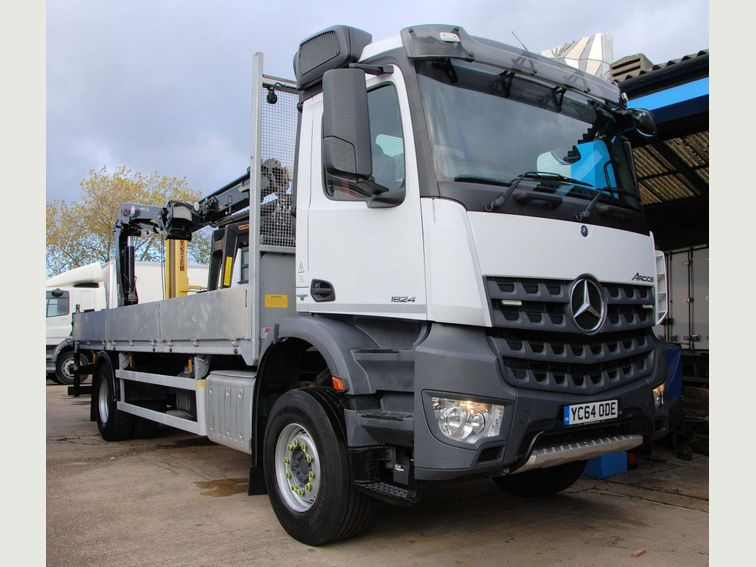Semi: (70, 24, 667, 543)
